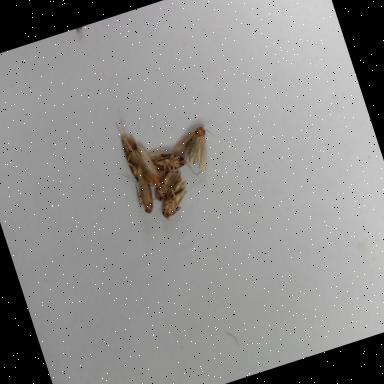abw: (172, 118, 226, 180)
pbw: (147, 139, 204, 188), (111, 116, 147, 182), (154, 178, 196, 224), (145, 164, 188, 204), (130, 142, 162, 192), (130, 172, 158, 215)
